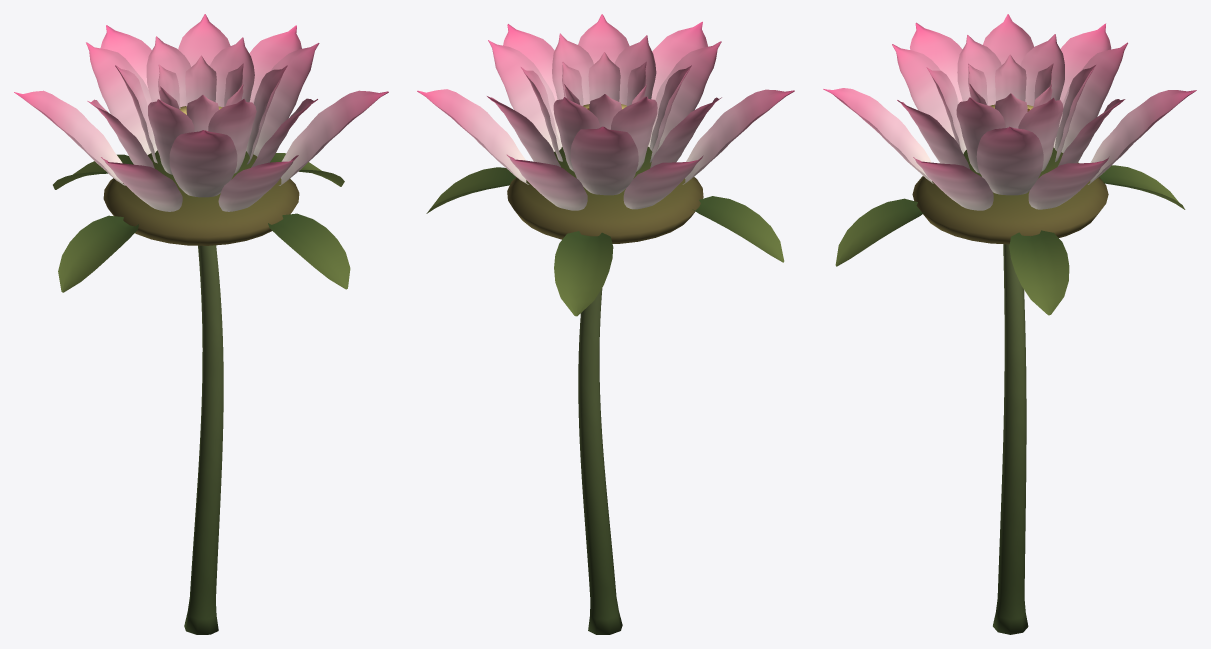
File: lotus.glb
3 views of the same model, side by side, from view 1: azimuth 30°, elevation 25°; view 2: azimuth 150°, elevation 25°; view 3: azimuth 270°, elevation 25° (orthographic).
Parts seen in each view (by area): view 1: petals.001, core.001, stem.001; view 2: petals.001, core.001, stem.001; view 3: petals.001, core.001, stem.001.
Part boxes in pixels (left/top/right/bottom): petals.001: left=14, top=14, right=388, bottom=211; core.001: left=53, top=106, right=350, bottom=292; stem.001: left=184, top=245, right=223, bottom=634; petals.001: left=417, top=14, right=794, bottom=210; core.001: left=426, top=104, right=784, bottom=316; stem.001: left=578, top=288, right=622, bottom=634; petals.001: left=823, top=14, right=1196, bottom=210; core.001: left=835, top=104, right=1185, bottom=315; stem.001: left=993, top=244, right=1028, bottom=634.
Size of the model in its own units: 1.61 by 2.72 by 1.64.
